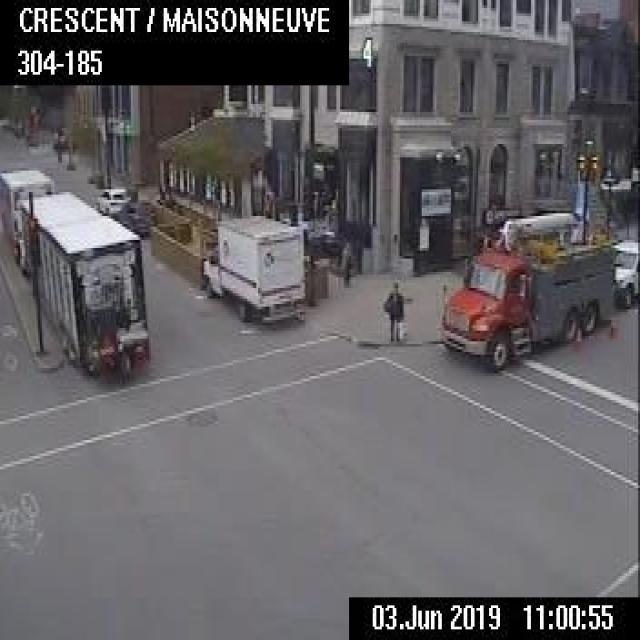pedestrian: (380, 278, 402, 342)
vehicle: (437, 210, 612, 365), (19, 190, 149, 378), (200, 208, 305, 323), (0, 166, 53, 262), (612, 236, 638, 306), (117, 199, 154, 235), (93, 185, 130, 212)
